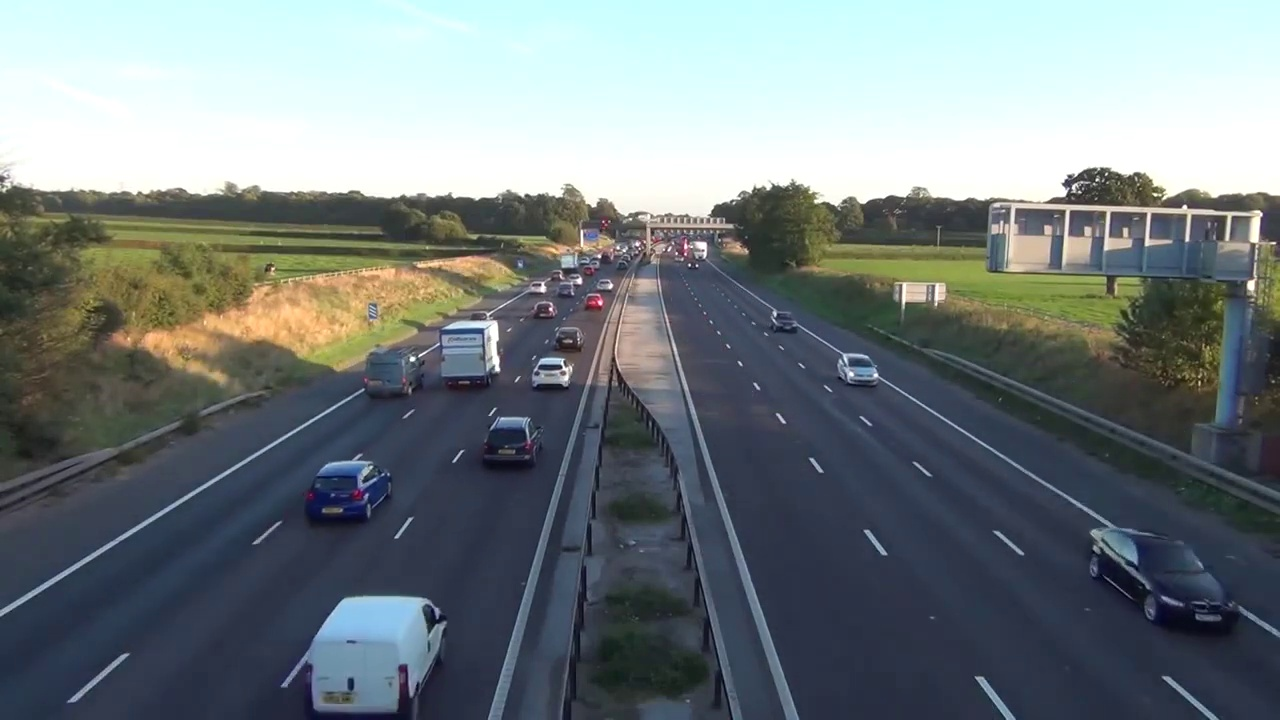bus: (306, 596, 450, 719), (1086, 525, 1240, 633), (304, 459, 395, 522), (480, 414, 546, 471), (362, 345, 426, 398), (834, 352, 881, 390), (530, 357, 576, 391), (554, 326, 584, 352), (770, 310, 799, 334), (533, 301, 558, 318), (585, 293, 603, 310), (528, 281, 547, 295), (558, 282, 575, 297), (597, 279, 614, 292), (470, 311, 494, 320), (568, 273, 583, 286), (551, 270, 565, 281)
car: (440, 320, 503, 388), (560, 253, 579, 272)
